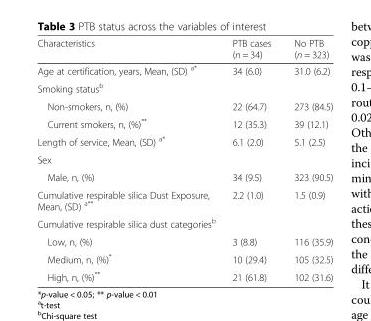table: (36, 37, 332, 282)
table column: (36, 37, 220, 282), (220, 37, 281, 282), (281, 37, 332, 282)
table column header: (36, 37, 332, 61)
table projected row header: (36, 78, 332, 97), (36, 150, 332, 168), (36, 214, 332, 232)
table row: (36, 185, 332, 214), (36, 37, 332, 61), (36, 78, 332, 97), (36, 131, 332, 150), (36, 150, 332, 168), (36, 214, 332, 232), (36, 249, 332, 267), (36, 61, 332, 78), (36, 97, 332, 114), (36, 114, 332, 131), (36, 168, 332, 185), (36, 232, 332, 249), (36, 267, 332, 282)
